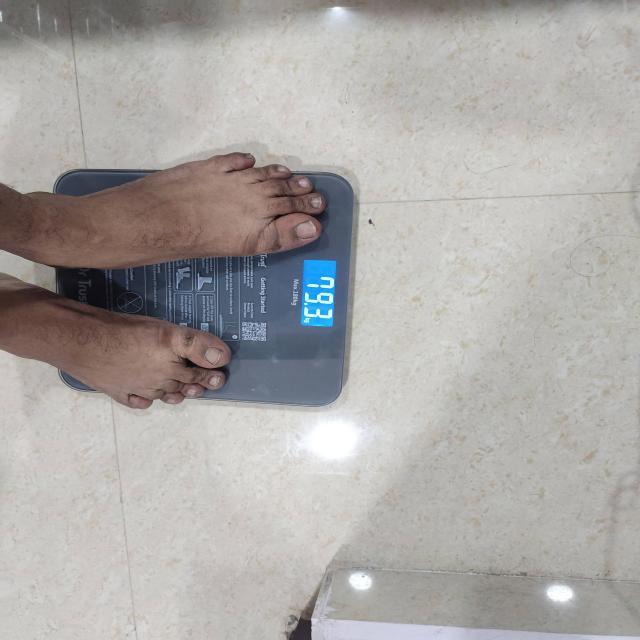ws: (60, 168, 360, 409)
